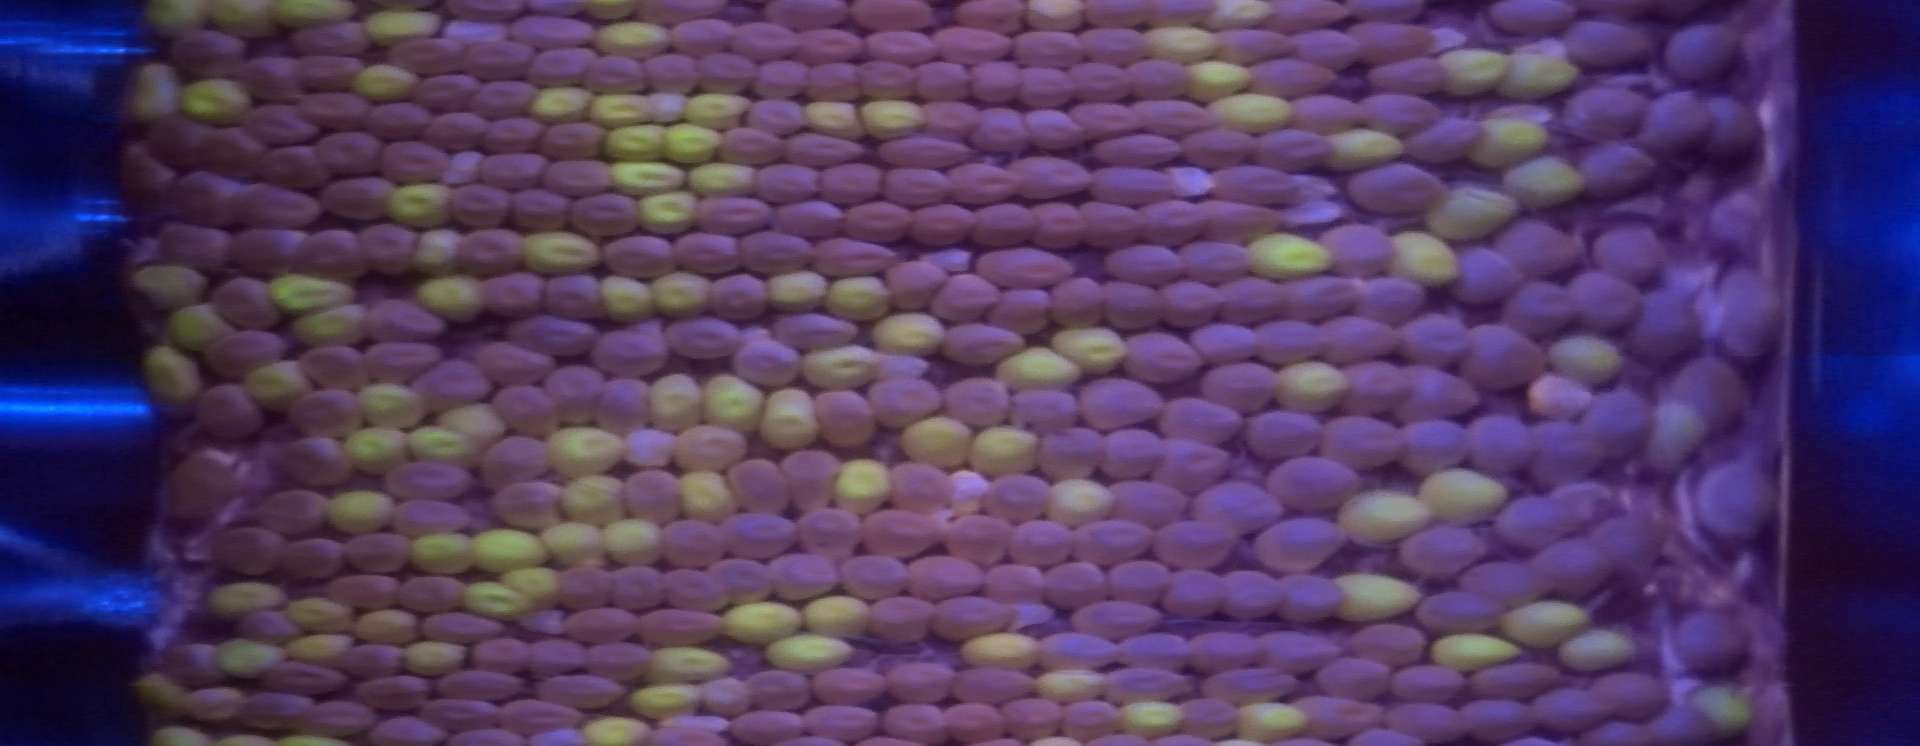fluorescent: (1329, 483, 1444, 551), (1409, 461, 1517, 530), (1423, 178, 1528, 249), (535, 416, 639, 488), (1324, 567, 1435, 631), (1378, 227, 1472, 301), (1495, 149, 1596, 217), (1643, 393, 1717, 483), (1424, 38, 1524, 102), (1236, 227, 1343, 285), (1493, 597, 1600, 655), (951, 624, 1052, 686), (984, 338, 1087, 398), (1460, 113, 1562, 173), (751, 381, 831, 457), (796, 341, 900, 399), (696, 367, 779, 441), (861, 306, 959, 367), (1269, 354, 1360, 419), (640, 367, 718, 445), (1491, 47, 1591, 107), (256, 266, 364, 321), (759, 628, 867, 684), (122, 257, 219, 318), (169, 71, 260, 135), (287, 298, 377, 361), (116, 58, 196, 130), (633, 642, 744, 693), (1315, 125, 1417, 181), (464, 523, 561, 582), (713, 595, 816, 650), (1540, 330, 1635, 390), (516, 225, 613, 283), (235, 354, 323, 418), (961, 419, 1044, 486), (553, 470, 643, 533), (133, 342, 212, 413), (1689, 677, 1769, 746), (336, 418, 422, 481), (535, 513, 620, 578), (195, 575, 299, 627), (795, 589, 884, 650), (891, 410, 977, 474), (639, 262, 720, 330), (429, 393, 519, 453), (1040, 473, 1128, 534), (347, 377, 436, 437), (1199, 86, 1300, 138), (620, 675, 716, 730), (1044, 321, 1136, 379), (589, 13, 680, 71), (752, 262, 836, 323), (320, 483, 405, 543), (1139, 18, 1232, 73), (849, 91, 939, 147), (1549, 625, 1643, 679), (393, 421, 489, 474), (669, 463, 744, 529), (820, 454, 899, 518), (599, 153, 696, 205), (157, 301, 245, 358), (380, 181, 467, 238), (1427, 628, 1523, 679), (403, 527, 489, 583), (793, 91, 876, 149), (344, 601, 429, 658), (595, 513, 673, 573), (1029, 661, 1116, 715), (358, 5, 453, 54), (1229, 695, 1320, 746), (819, 269, 900, 327), (391, 635, 479, 686), (1176, 55, 1262, 107), (672, 87, 765, 135), (680, 156, 769, 205), (632, 183, 705, 241), (207, 633, 291, 684), (1107, 695, 1198, 741), (405, 219, 471, 283), (279, 593, 364, 642), (525, 81, 604, 134), (653, 118, 729, 171), (280, 625, 364, 673), (580, 86, 661, 135), (591, 267, 659, 326), (127, 668, 196, 725), (136, 1, 217, 49), (344, 61, 425, 109), (598, 119, 677, 167), (263, 1, 364, 38), (497, 561, 571, 611), (208, 1, 282, 47), (1016, 1, 1093, 42), (1199, 1, 1282, 38), (569, 710, 653, 746)
nonfluorescent: (1709, 258, 1798, 377), (1657, 349, 1756, 445), (1449, 318, 1564, 398), (1692, 454, 1784, 549), (1615, 282, 1713, 370), (1341, 156, 1461, 225), (1660, 601, 1760, 685), (1635, 82, 1725, 173), (157, 443, 252, 529), (1247, 510, 1364, 578), (1184, 475, 1297, 546), (1553, 78, 1663, 151), (1489, 214, 1593, 290), (1693, 87, 1773, 185), (584, 314, 684, 391), (1485, 489, 1597, 557), (852, 499, 956, 571), (1527, 529, 1624, 606), (1520, 414, 1618, 490), (1071, 369, 1177, 439), (1262, 450, 1375, 514), (1657, 10, 1749, 89), (1571, 383, 1659, 465), (1392, 358, 1493, 429), (969, 241, 1087, 301), (1584, 507, 1669, 590), (111, 137, 191, 225), (1555, 13, 1663, 78), (1560, 266, 1657, 338), (1384, 521, 1495, 583), (1385, 303, 1484, 372), (1284, 686, 1400, 746), (1315, 412, 1420, 477), (1441, 238, 1531, 314), (1569, 134, 1664, 205), (1155, 393, 1259, 458), (1496, 274, 1589, 347), (1385, 412, 1485, 478), (1332, 354, 1429, 423), (933, 311, 1037, 375), (220, 178, 333, 236), (716, 450, 803, 526), (1589, 214, 1676, 290), (377, 451, 489, 510), (921, 586, 1029, 646), (1315, 218, 1411, 285), (1453, 555, 1567, 611), (1236, 405, 1336, 469), (1456, 409, 1549, 478), (136, 107, 225, 178), (997, 149, 1107, 207), (193, 322, 296, 383), (1309, 310, 1412, 371), (1032, 416, 1119, 489), (279, 382, 376, 447), (1348, 267, 1441, 334), (876, 454, 964, 526), (1404, 587, 1517, 642), (1245, 624, 1353, 681), (268, 429, 364, 494), (856, 589, 951, 654), (157, 21, 256, 83), (713, 502, 804, 570), (400, 354, 503, 414), (1273, 269, 1376, 330), (775, 441, 852, 521), (936, 369, 1025, 437), (727, 322, 809, 397), (157, 167, 251, 232), (1149, 434, 1243, 499), (201, 522, 296, 586), (653, 309, 756, 367), (976, 465, 1064, 534), (860, 369, 953, 434), (1240, 51, 1349, 107), (1116, 326, 1213, 387), (189, 377, 276, 446), (1588, 665, 1681, 729), (804, 383, 888, 454), (940, 659, 1049, 713), (724, 225, 828, 282), (478, 425, 564, 492), (792, 497, 873, 570), (482, 474, 576, 537), (1195, 355, 1292, 415), (497, 9, 607, 61), (531, 666, 637, 722), (1100, 658, 1202, 714), (1064, 513, 1164, 571), (760, 549, 855, 610), (1700, 191, 1776, 267), (1067, 590, 1176, 643), (1078, 158, 1189, 209), (1544, 465, 1627, 534), (1524, 682, 1618, 744), (803, 229, 911, 282), (1240, 122, 1348, 175), (485, 381, 571, 447), (1309, 650, 1403, 710), (924, 269, 1013, 333), (1269, 563, 1357, 627), (1202, 158, 1309, 211), (764, 305, 868, 359), (1395, 111, 1496, 167), (649, 511, 733, 577), (448, 220, 538, 283), (539, 359, 616, 431), (1149, 513, 1245, 571), (1033, 624, 1136, 677), (1373, 655, 1476, 709), (1191, 195, 1292, 250), (1068, 197, 1160, 257), (200, 274, 291, 334), (249, 481, 340, 541), (1092, 274, 1176, 341), (1212, 565, 1300, 627), (1244, 315, 1340, 372), (351, 334, 456, 387), (295, 339, 384, 401), (965, 195, 1051, 258), (1103, 473, 1198, 530), (1005, 511, 1087, 577), (359, 293, 459, 347), (1348, 87, 1449, 141), (1337, 615, 1435, 670), (939, 507, 1024, 571), (628, 603, 741, 650), (1180, 315, 1276, 371), (1464, 654, 1569, 706), (1336, 18, 1445, 67), (464, 334, 561, 390), (383, 491, 480, 546), (1135, 89, 1232, 145), (596, 227, 687, 285), (269, 529, 356, 590), (200, 122, 277, 191), (997, 383, 1089, 441), (828, 549, 920, 606), (380, 29, 478, 83), (615, 463, 693, 530), (879, 255, 961, 318), (598, 555, 680, 619), (503, 310, 602, 363), (289, 225, 376, 285), (1521, 369, 1608, 429), (589, 371, 664, 441), (899, 551, 996, 605), (564, 183, 648, 245), (153, 216, 241, 274), (877, 654, 969, 710), (557, 598, 655, 650), (1172, 234, 1261, 292), (662, 227, 756, 282), (969, 554, 1056, 612), (684, 189, 781, 241), (833, 195, 927, 249), (332, 523, 420, 581), (1455, 688, 1543, 746), (1176, 627, 1284, 674), (1021, 195, 1101, 258), (776, 125, 879, 174), (760, 194, 856, 246), (936, 157, 1029, 211), (431, 663, 539, 709), (229, 51, 316, 109), (1100, 554, 1183, 614), (981, 282, 1059, 345), (547, 559, 627, 621), (1365, 53, 1460, 105), (1209, 273, 1303, 326), (489, 691, 595, 737), (475, 263, 556, 325), (1035, 557, 1116, 619), (315, 169, 400, 227), (456, 34, 545, 89), (1093, 423, 1176, 483), (252, 654, 358, 701), (225, 220, 312, 277), (173, 677, 260, 734), (1199, 661, 1307, 707), (1152, 273, 1232, 334), (1156, 561, 1236, 622), (280, 13, 380, 62), (737, 661, 825, 717), (703, 554, 784, 614), (804, 661, 902, 710), (1173, 122, 1269, 173), (811, 158, 898, 213), (902, 197, 987, 254), (1128, 194, 1212, 250), (1016, 100, 1097, 159), (253, 141, 336, 198), (700, 266, 779, 326), (460, 630, 547, 684), (444, 179, 524, 238), (156, 635, 235, 693), (1109, 625, 1202, 675), (416, 605, 519, 650), (288, 695, 384, 742), (873, 162, 967, 211), (1281, 89, 1375, 138), (927, 21, 1019, 71), (1003, 24, 1095, 75), (344, 218, 422, 277), (1095, 127, 1196, 173), (291, 86, 381, 137), (873, 130, 980, 173), (1479, 1, 1580, 47), (658, 565, 735, 624), (538, 149, 624, 201), (389, 570, 476, 621), (309, 126, 393, 179), (1069, 20, 1157, 70), (1107, 236, 1189, 290), (996, 690, 1074, 746), (1048, 269, 1116, 334), (408, 695, 516, 735), (744, 158, 829, 209), (535, 269, 612, 326), (529, 118, 617, 167), (1389, 697, 1477, 746), (1169, 691, 1249, 745), (721, 13, 804, 65), (411, 107, 501, 154), (351, 669, 441, 717), (404, 69, 489, 119), (501, 185, 585, 235), (838, 1, 949, 39), (520, 39, 602, 91), (797, 699, 887, 746), (713, 121, 793, 173), (372, 135, 453, 186), (1277, 29, 1371, 73), (321, 570, 408, 617), (519, 633, 604, 682), (1056, 693, 1134, 746), (577, 638, 659, 688), (1123, 51, 1198, 107), (576, 49, 655, 100), (235, 102, 327, 146), (1060, 96, 1145, 143), (460, 75, 545, 122), (339, 639, 424, 687), (737, 89, 816, 141), (637, 45, 711, 99), (962, 105, 1037, 159), (877, 697, 959, 746), (689, 47, 765, 99), (235, 686, 321, 733), (860, 345, 943, 393), (228, 601, 305, 653), (933, 695, 1010, 746), (785, 21, 869, 67), (358, 97, 440, 145), (913, 97, 991, 147), (860, 21, 940, 69), (1060, 54, 1139, 103), (1207, 26, 1305, 65), (660, 13, 744, 59), (1011, 62, 1087, 113), (959, 58, 1032, 109), (1259, 1, 1352, 42), (741, 53, 816, 103), (849, 55, 927, 103), (471, 110, 549, 158), (725, 706, 816, 746), (909, 55, 980, 107), (289, 50, 369, 96), (797, 58, 871, 107), (468, 145, 547, 189), (1637, 701, 1714, 746), (432, 10, 516, 51), (757, 1, 860, 34), (693, 671, 759, 723), (1073, 1, 1166, 37), (948, 1, 1040, 37), (436, 143, 496, 194), (1145, 1, 1222, 36), (1576, 714, 1658, 746), (516, 599, 576, 642), (1341, 1, 1429, 29)
